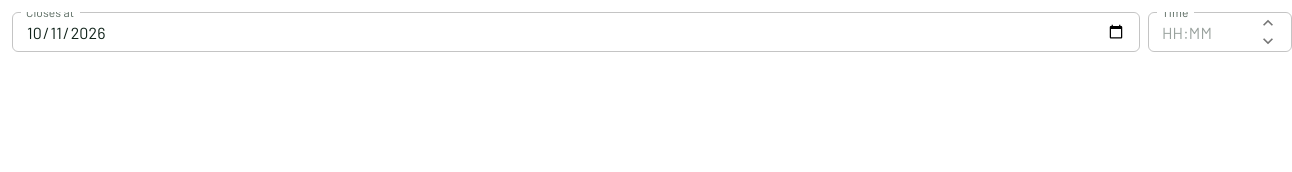
Scenario: DateTimeField › turns 930 into 09:30
Type "930" into the field named "Closes at (time)" at (1201, 32), box [1148,12,1254,52]
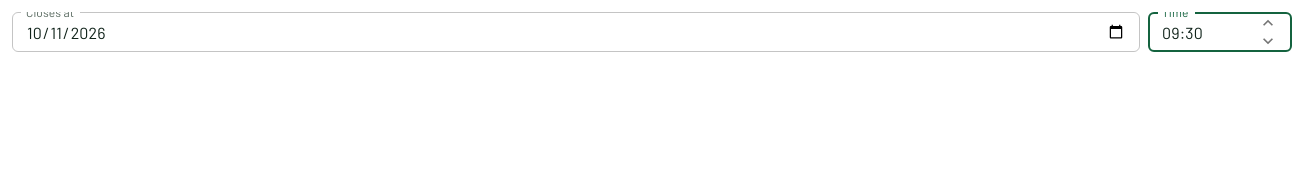
expect the field named "Closes at (time)" holds "09:30": met, box [1148,12,1254,52]
